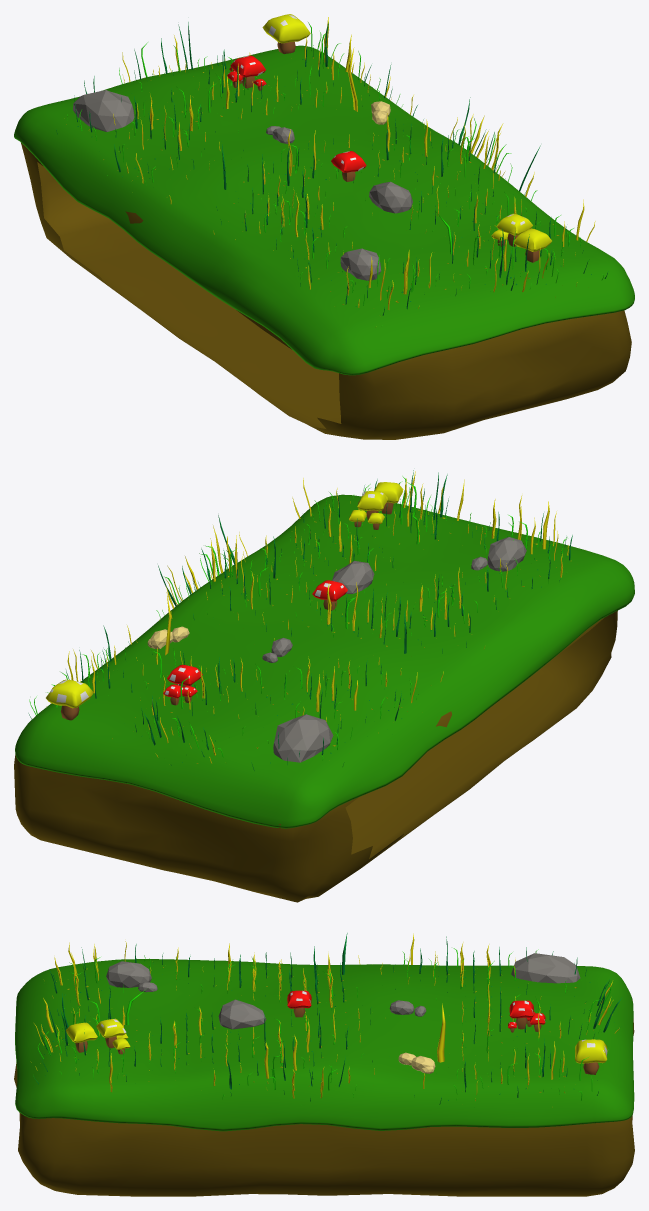
Rendered from платформа  1.fbx.
3 renders of one model, top to bottom at view 1: azimuth 30°, elevation 25°; view 2: azimuth 150°, elevation 25°; view 3: azimuth 270°, elevation 25°, orthographic. The views are drawn at different scales.
Parts seen in each view (by area): view 1: Cube.001, Cube, Icosphere.008, Cube.011, Icosphere.007, Icosphere.005, Cube.009, Cube.003, Cube.002, Cube.007; view 2: Cube.001, Cube, Icosphere.008, Cube.011, Icosphere.005, Icosphere.007, Cube.002; view 3: Cube.001, Cube, Icosphere.008, Icosphere.007, Icosphere.005, Cube.011, Cube.009, Cube.003, Cube.007, Cube.002.
Part boxes in pixels (x1,y1,x2,y2): Cube.001: (14, 45, 634, 375); Cube: (21, 143, 631, 439); Icosphere.008: (73, 90, 134, 131); Cube.011: (262, 14, 310, 53); Icosphere.007: (369, 181, 412, 213); Icosphere.005: (340, 248, 381, 280); Cube.009: (514, 228, 551, 262); Cube.003: (230, 55, 265, 88); Cube.002: (331, 151, 366, 181); Cube.007: (496, 213, 532, 246); Cube.001: (15, 494, 634, 828); Cube: (14, 610, 617, 902); Icosphere.008: (273, 714, 333, 762); Cube.011: (46, 679, 93, 720); Icosphere.005: (487, 537, 526, 571); Icosphere.007: (332, 561, 374, 593); Cube.002: (312, 580, 347, 610); Cube.001: (15, 959, 634, 1131); Cube: (14, 1000, 634, 1196); Icosphere.008: (511, 953, 580, 983); Icosphere.007: (218, 999, 266, 1029); Icosphere.005: (106, 961, 151, 987); Cube.011: (575, 1039, 607, 1074); Cube.009: (66, 1022, 97, 1052); Cube.003: (509, 1000, 533, 1029); Cube.007: (96, 1018, 126, 1048); Cube.002: (287, 990, 311, 1017).
Size of the model in its own units: 242 by 141 by 440.
